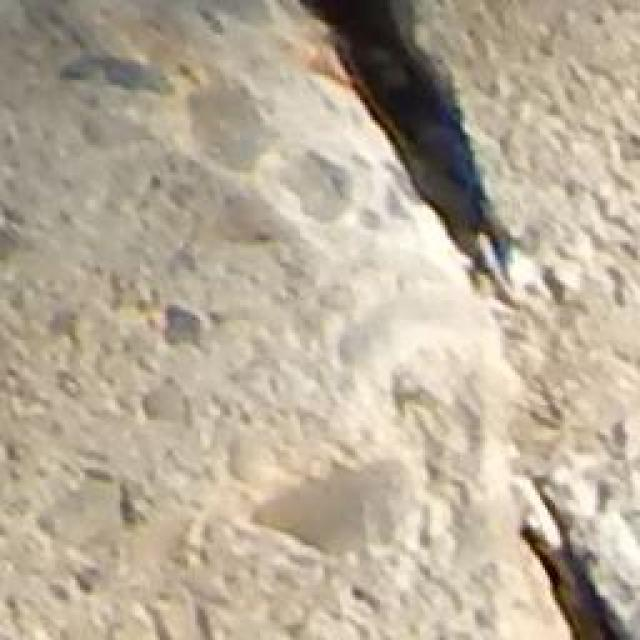concrete-crack: (295, 0, 533, 311), (515, 478, 637, 640)
